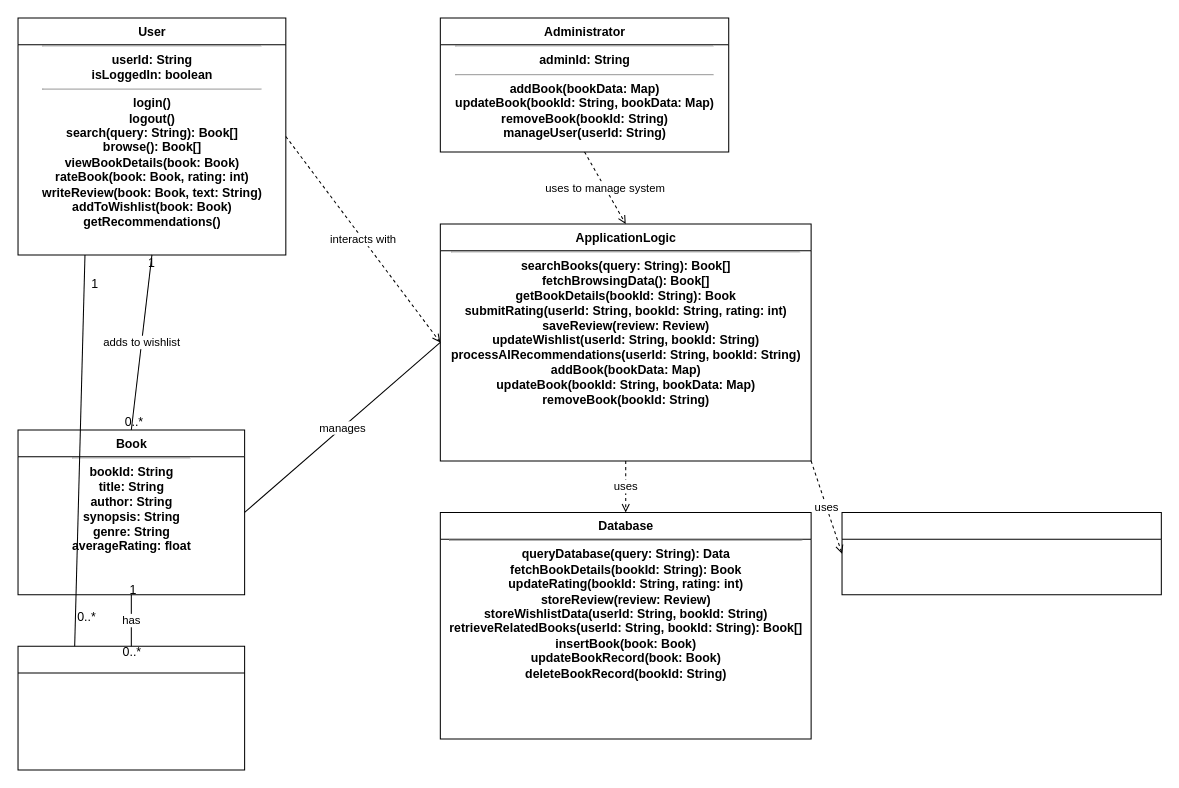
Some shapes in this 1179 by 788 pixel diagram are drawn without their labels. Here are the shapes that lost their labels. From the top down, the centre of each, then its label:
At point 1001,553: "AIRecommender generateRecommendations(userId: String): Book[]".
At point 131,707: "Review userId: String bookId: String rating: int reviewText: String".
